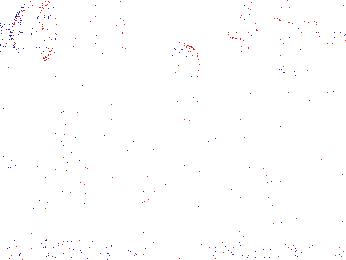moon jellyfish: (58, 33, 129, 111), (134, 44, 201, 106), (82, 11, 136, 85), (263, 16, 326, 76), (226, 5, 317, 41), (10, 3, 53, 65)
